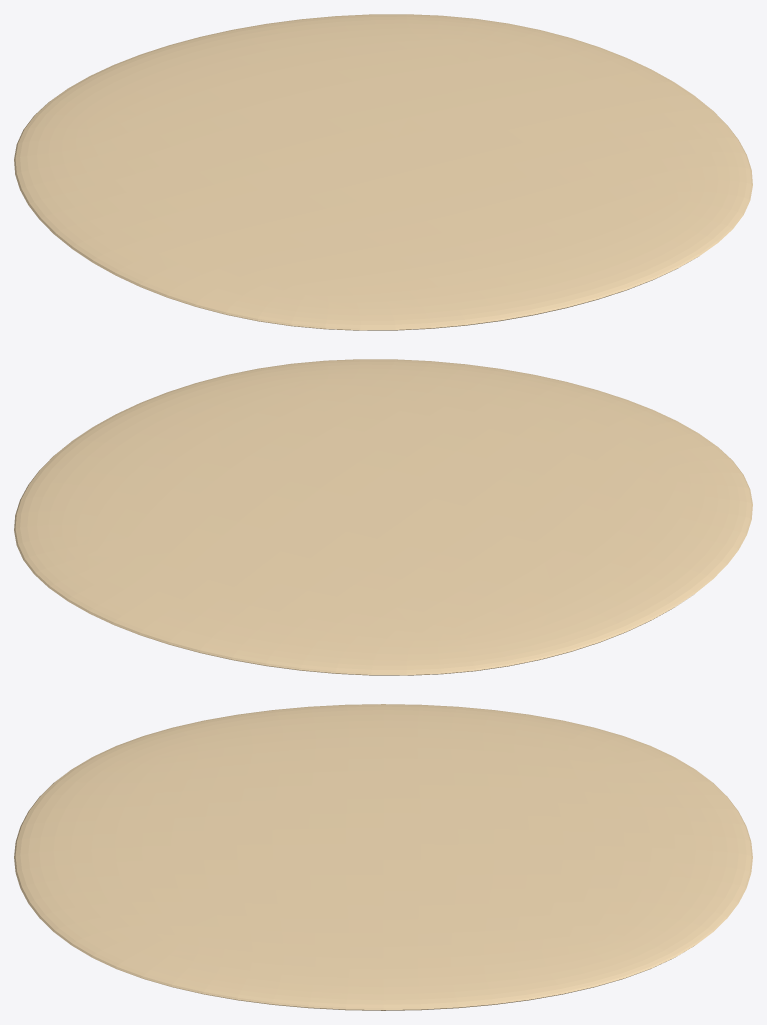
Rendered from plage2.obj.
The picture shows the model from 3 angles, top to bottom: view 1: azimuth 30°, elevation 25°; view 2: azimuth 150°, elevation 25°; view 3: azimuth 270°, elevation 25°; orthographic projection.
Parts seen in each view (by area): view 1: Plage; view 2: Plage; view 3: Plage.
Part boxes in pixels (left/top/right/bottom): Plage: left=14, top=14, right=752, bottom=330; Plage: left=14, top=359, right=752, bottom=675; Plage: left=14, top=704, right=752, bottom=1010.
Bounding box in the file's own units: 83.53 × 3.43 × 85.44.
